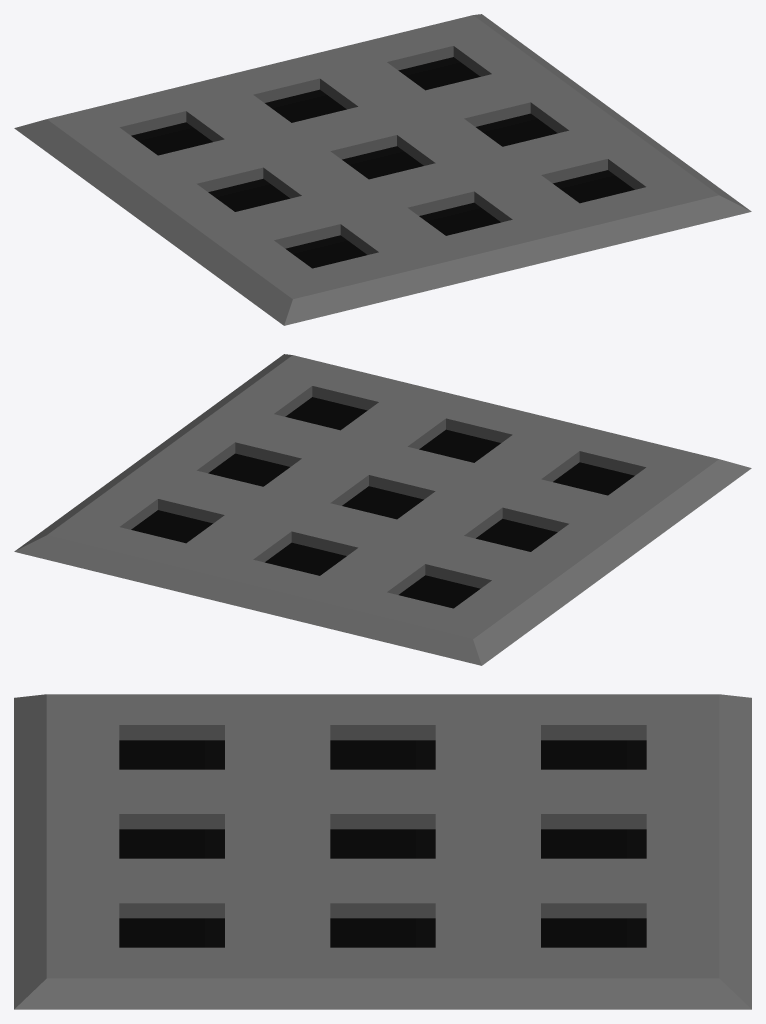
File: Socket_array_3x3.fbx
The picture shows the model from 3 angles, top to bottom: view 1: azimuth 30°, elevation 25°; view 2: azimuth 150°, elevation 25°; view 3: azimuth 270°, elevation 25°; orthographic projection. The views are drawn at different scales.
Parts seen in each view (by area): view 1: Socket array 3x3; view 2: Socket array 3x3; view 3: Socket array 3x3.
Boxes of the visible parts, box(x1,y1,x2,y2) form: Socket array 3x3: box(14, 14, 751, 325); Socket array 3x3: box(14, 354, 751, 665); Socket array 3x3: box(14, 694, 751, 1009).
Size of the model in its own units: 70 by 1.83 by 70.
